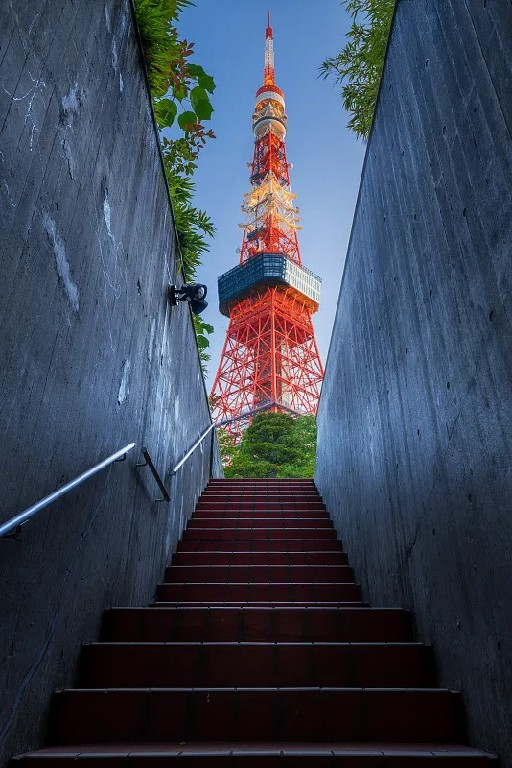Tokyo: (208, 9, 323, 426)
